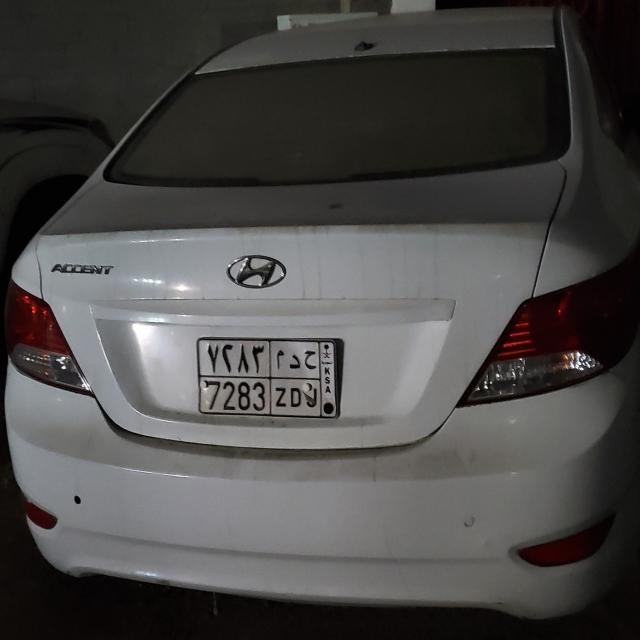license_plate: (194, 335, 343, 421)
